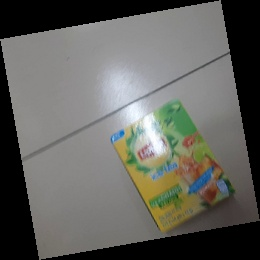LipTon: (109, 99, 235, 235)
